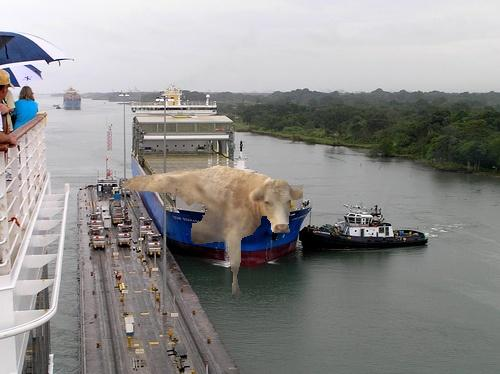tampered: (121, 166, 303, 299)
